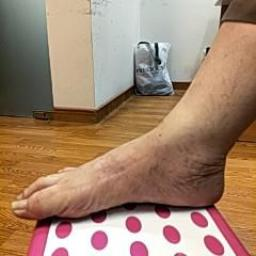Medial View -Right Foot-: (2, 102, 245, 236)
